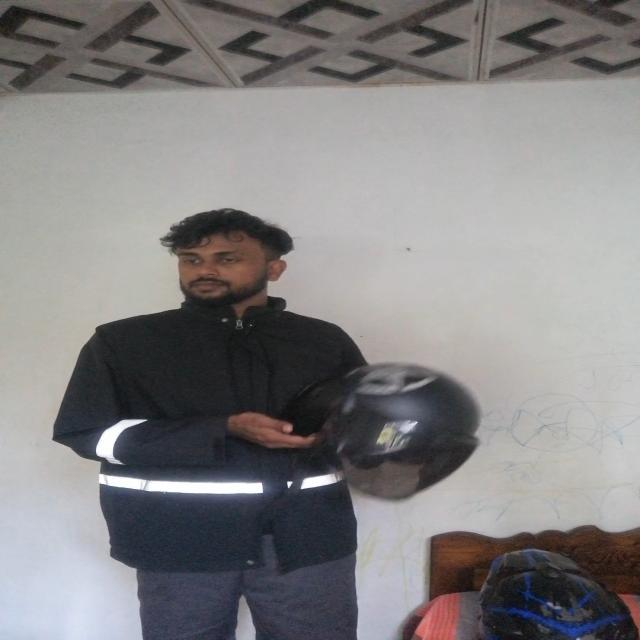Helmet_Wearer: (139, 203, 305, 314)
Jacket_Wearer: (79, 305, 438, 585)
Person: (70, 194, 444, 640)
